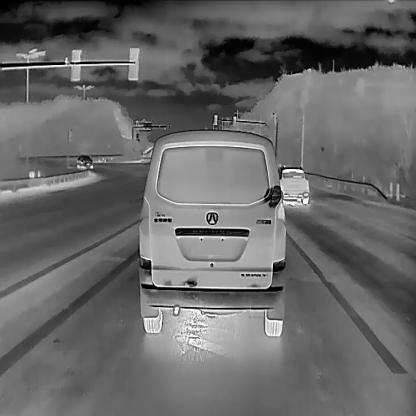car: (138, 128, 287, 337), (276, 164, 310, 204), (75, 153, 92, 169)
